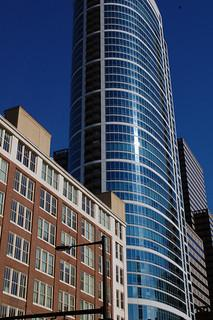building: (69, 2, 188, 320)
